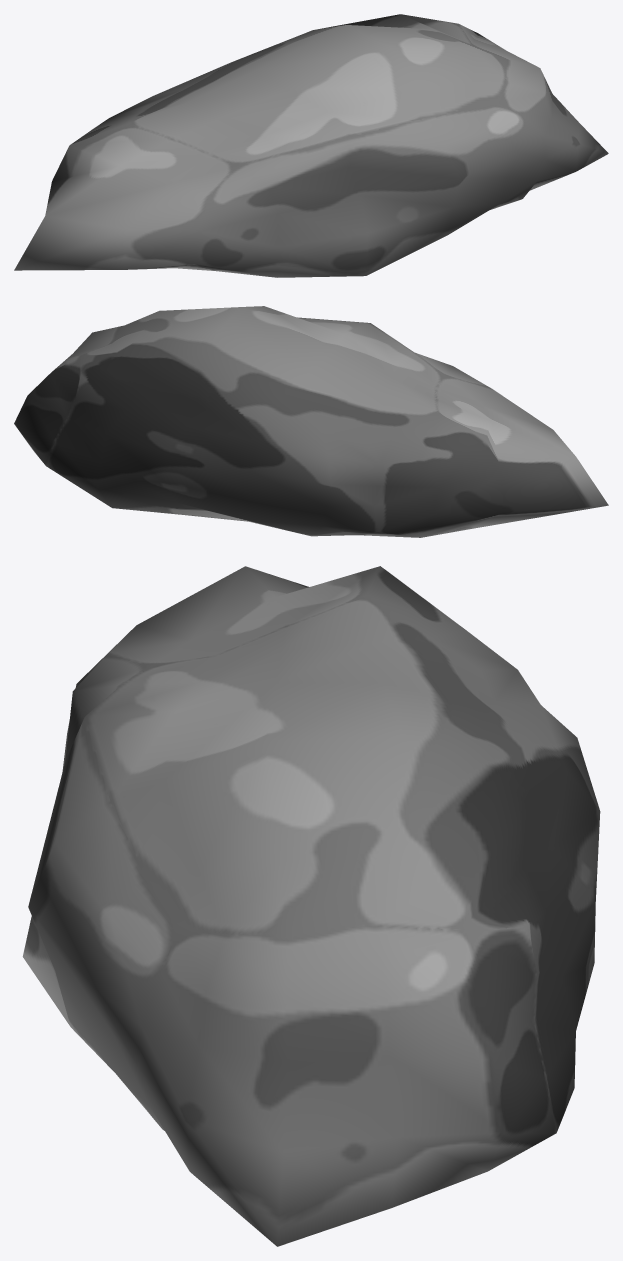
Rendered from Rock_Mesh_4.FBX.
3 renders of one model, top to bottom at view 1: azimuth 30°, elevation 25°; view 2: azimuth 150°, elevation 25°; view 3: azimuth 270°, elevation 25°, orthographic. The views are drawn at different scales.
Parts seen in each view (by area): view 1: CartoonRock_4; view 2: CartoonRock_4; view 3: CartoonRock_4.
Boxes of the visible parts, x1=… form: CartoonRock_4: x1=14, y1=14, x2=608, y2=277; CartoonRock_4: x1=14, y1=306, x2=608, y2=537; CartoonRock_4: x1=22, y1=566, x2=600, y2=1246.
Bounding box in the file's own units: 8.57 × 2.51 × 3.77.
Materials: 1 (1 with a texture image).
